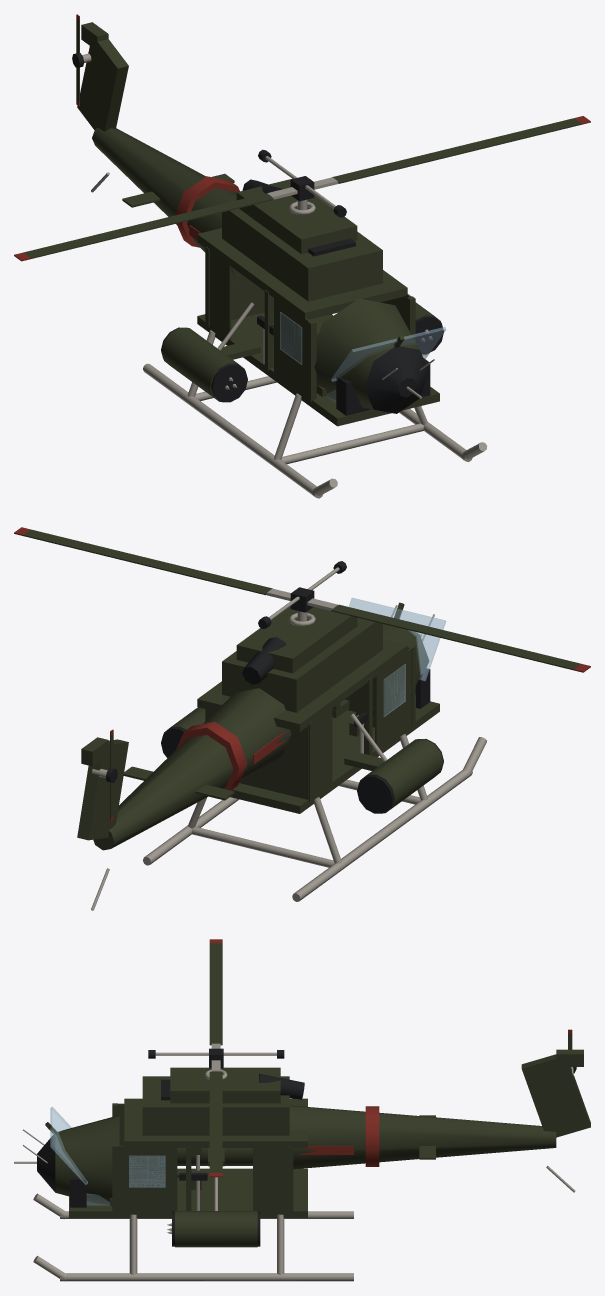
The model's file is uh-1c-huey-gunship.glb.
The picture shows the model from 3 angles, top to bottom: view 1: azimuth 30°, elevation 25°; view 2: azimuth 150°, elevation 25°; view 3: azimuth 270°, elevation 25°; orthographic projection. The views are drawn at different scales.
Parts seen in each view (by area): view 1: Mesh_Doghouse_Base, Mesh_NoseCone, Mesh_TailBoom, Mesh_CabinRoof, Mesh_Doghouse_Cowl, Mesh_TailFin, Mesh_NoseTip, Mesh_RocketPod_L, Mesh_PilotDoor_L, Mesh_MainBlade_L, Mesh_MainBlade_R, Mesh_Skid_L (+14 smaller); view 2: Mesh_TailBoom, Mesh_Doghouse_Base, Mesh_Doghouse_Cowl, Mesh_CabinRoof, Mesh_CabinFloor, Mesh_TailFin, Mesh_PilotDoor_L, Mesh_RocketPod_L, Mesh_CabinBulkhead, Mesh_MainBlade_L, Mesh_MainBlade_R, Mesh_Skid_L (+16 smaller); view 3: Mesh_TailBoom, Mesh_Doghouse_Base, Mesh_NoseCone, Mesh_PilotDoor_R, Mesh_CabinFloor, Mesh_TailFin, Mesh_Doghouse_Cowl, Mesh_CabinRoof, Mesh_RocketPod_R, Mesh_Skid_R, Mesh_WallPanel_R, Mesh_MainBlade_R (+11 smaller).
Boxes of the visible parts, x1,y1,x2,y2 form: Mesh_Doghouse_Base: [222, 208, 382, 301]; Mesh_NoseCone: [314, 298, 419, 409]; Mesh_TailBoom: [92, 127, 263, 290]; Mesh_CabinRoof: [197, 228, 407, 320]; Mesh_Doghouse_Cowl: [236, 179, 357, 254]; Mesh_TailFin: [77, 35, 128, 131]; Mesh_NoseTip: [364, 346, 429, 413]; Mesh_RocketPod_L: [161, 327, 244, 401]; Mesh_PilotDoor_L: [274, 298, 310, 398]; Mesh_MainBlade_L: [23, 193, 273, 258]; Mesh_MainBlade_R: [332, 118, 581, 183]; Mesh_Skid_L: [143, 363, 322, 498]; Mesh_TailBoom: [93, 688, 291, 850]; Mesh_Doghouse_Base: [222, 617, 382, 712]; Mesh_Doghouse_Cowl: [236, 606, 357, 673]; Mesh_CabinRoof: [197, 639, 407, 731]; Mesh_CabinFloor: [230, 710, 418, 813]; Mesh_TailFin: [77, 739, 128, 840]; Mesh_PilotDoor_L: [375, 648, 411, 748]; Mesh_RocketPod_L: [360, 739, 443, 813]; Mesh_CabinBulkhead: [206, 709, 308, 799]; Mesh_MainBlade_L: [331, 604, 581, 670]; Mesh_MainBlade_R: [23, 529, 272, 595]; Mesh_Skid_L: [292, 769, 472, 901]; Mesh_TailBoom: [289, 1105, 556, 1169]; Mesh_Doghouse_Base: [142, 1076, 289, 1135]; Mesh_NoseCone: [55, 1115, 119, 1204]; Mesh_PilotDoor_R: [117, 1145, 177, 1212]; Mesh_CabinFloor: [106, 1168, 307, 1217]; Mesh_TailFin: [521, 1054, 590, 1137]; Mesh_Doghouse_Cowl: [170, 1067, 280, 1103]; Mesh_CabinRoof: [124, 1098, 307, 1147]; Mesh_RocketPod_R: [175, 1211, 257, 1247]; Mesh_Skid_R: [60, 1273, 353, 1281]; Mesh_WallPanel_R: [253, 1146, 286, 1212]; Mesh_MainBlade_R: [209, 1071, 222, 1172].
Size of the model in its own units: 13.46 by 5.65 by 13.85.
2 materials, 2 textured.
